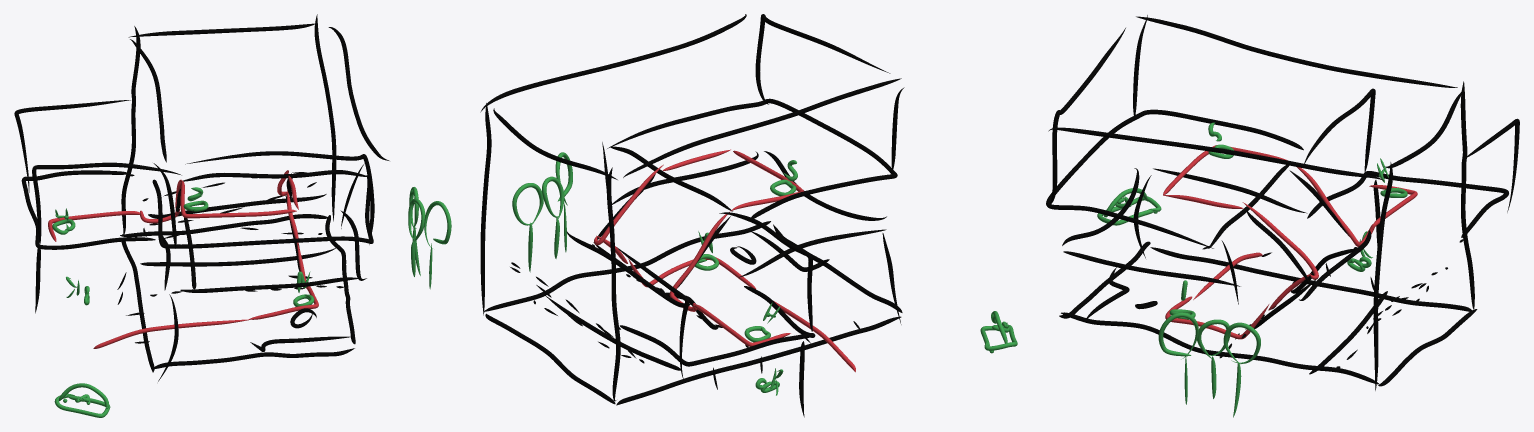
3 views of the same model, side by side, from view 1: azimuth 30°, elevation 25°; view 2: azimuth 150°, elevation 25°; view 3: azimuth 270°, elevation 25° (orthographic). The views are drawn at different scales.
Parts seen in each view (by area): view 1: s.0104, s.0053, s.0071, s.0066, s.0014, s.0059, s.0016, s.0060, s.0058, s.0026, s.0061, s.0068 (+13 smaller); view 2: s.0104, s.0013, s.0053, s.0062, s.0072, s.0015, s.0059, s.0071, s.0060, s.0066, s.0016, s.0067 (+13 smaller); view 3: s.0104, s.0072, s.0015, s.0062, s.0013, s.0053, s.0059, s.0060, s.0071, s.0069, s.0066, s.0064 (+16 smaller).
Part boxes in pixels (x1,y1,x2,y2): s.0104: [152, 175, 373, 248]; s.0053: [21, 170, 155, 249]; s.0071: [185, 151, 374, 244]; s.0066: [32, 162, 181, 243]; s.0014: [152, 348, 354, 369]; s.0059: [121, 26, 140, 234]; s.0016: [120, 214, 327, 237]; s.0060: [314, 14, 336, 221]; s.0058: [180, 170, 366, 181]; s.0026: [140, 248, 335, 266]; s.0061: [128, 23, 315, 37]; s.0068: [180, 277, 360, 292]; s.0104: [607, 98, 897, 218]; s.0013: [616, 316, 901, 405]; s.0053: [620, 286, 815, 366]; s.0062: [623, 78, 901, 177]; s.0072: [480, 14, 746, 112]; s.0015: [484, 221, 770, 311]; s.0059: [606, 167, 620, 401]; s.0071: [755, 14, 890, 104]; s.0060: [480, 103, 491, 315]; s.0066: [719, 212, 812, 331]; s.0016: [485, 313, 615, 404]; s.0067: [617, 247, 689, 380]; s.0104: [1046, 109, 1303, 248]; s.0072: [1048, 127, 1384, 180]; s.0015: [1061, 312, 1379, 384]; s.0062: [1136, 16, 1457, 87]; s.0013: [1150, 247, 1471, 311]; s.0053: [1307, 171, 1508, 237]; s.0059: [1460, 81, 1474, 309]; s.0060: [1373, 162, 1392, 390]; s.0071: [1050, 28, 1125, 203]; s.0069: [1063, 251, 1240, 286]; s.0066: [1304, 88, 1375, 171]; s.0064: [1153, 168, 1307, 213].
Size of the model in its own units: 93.2 by 84.69 by 49.62.
